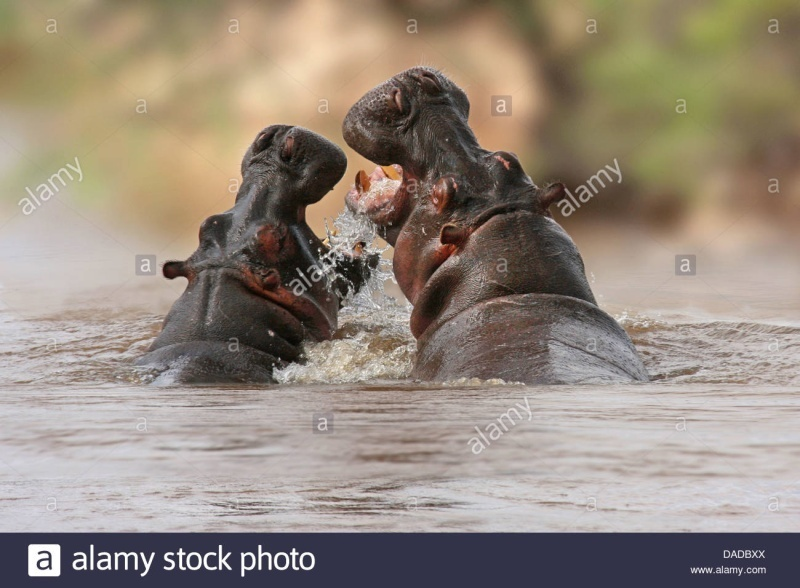hipopotamo: (339, 55, 668, 401), (145, 117, 365, 402)
